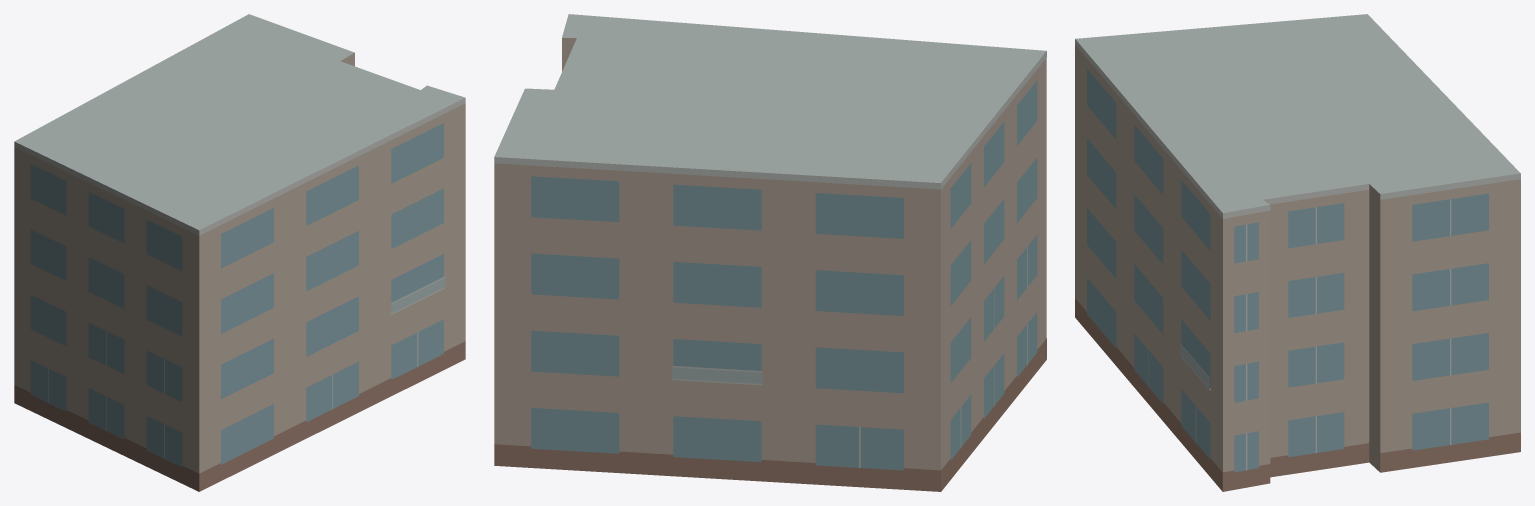
The model's file is survey-upis-32524404.glb.
3 views of the same model, side by side, from view 1: azimuth 30°, elevation 25°; view 2: azimuth 150°, elevation 25°; view 3: azimuth 270°, elevation 25° (orthographic). The views are drawn at different scales.
Visible parts, largest first — view 1: survey-upis-32524404.tmp; view 2: survey-upis-32524404.tmp; view 3: survey-upis-32524404.tmp.
Part boxes in pixels (x1,y1,x2,y2): survey-upis-32524404.tmp: [14, 14, 465, 491]; survey-upis-32524404.tmp: [494, 14, 1046, 491]; survey-upis-32524404.tmp: [1075, 14, 1520, 491].
Size of the model in its own units: 18.11 by 11.8 by 17.12.
